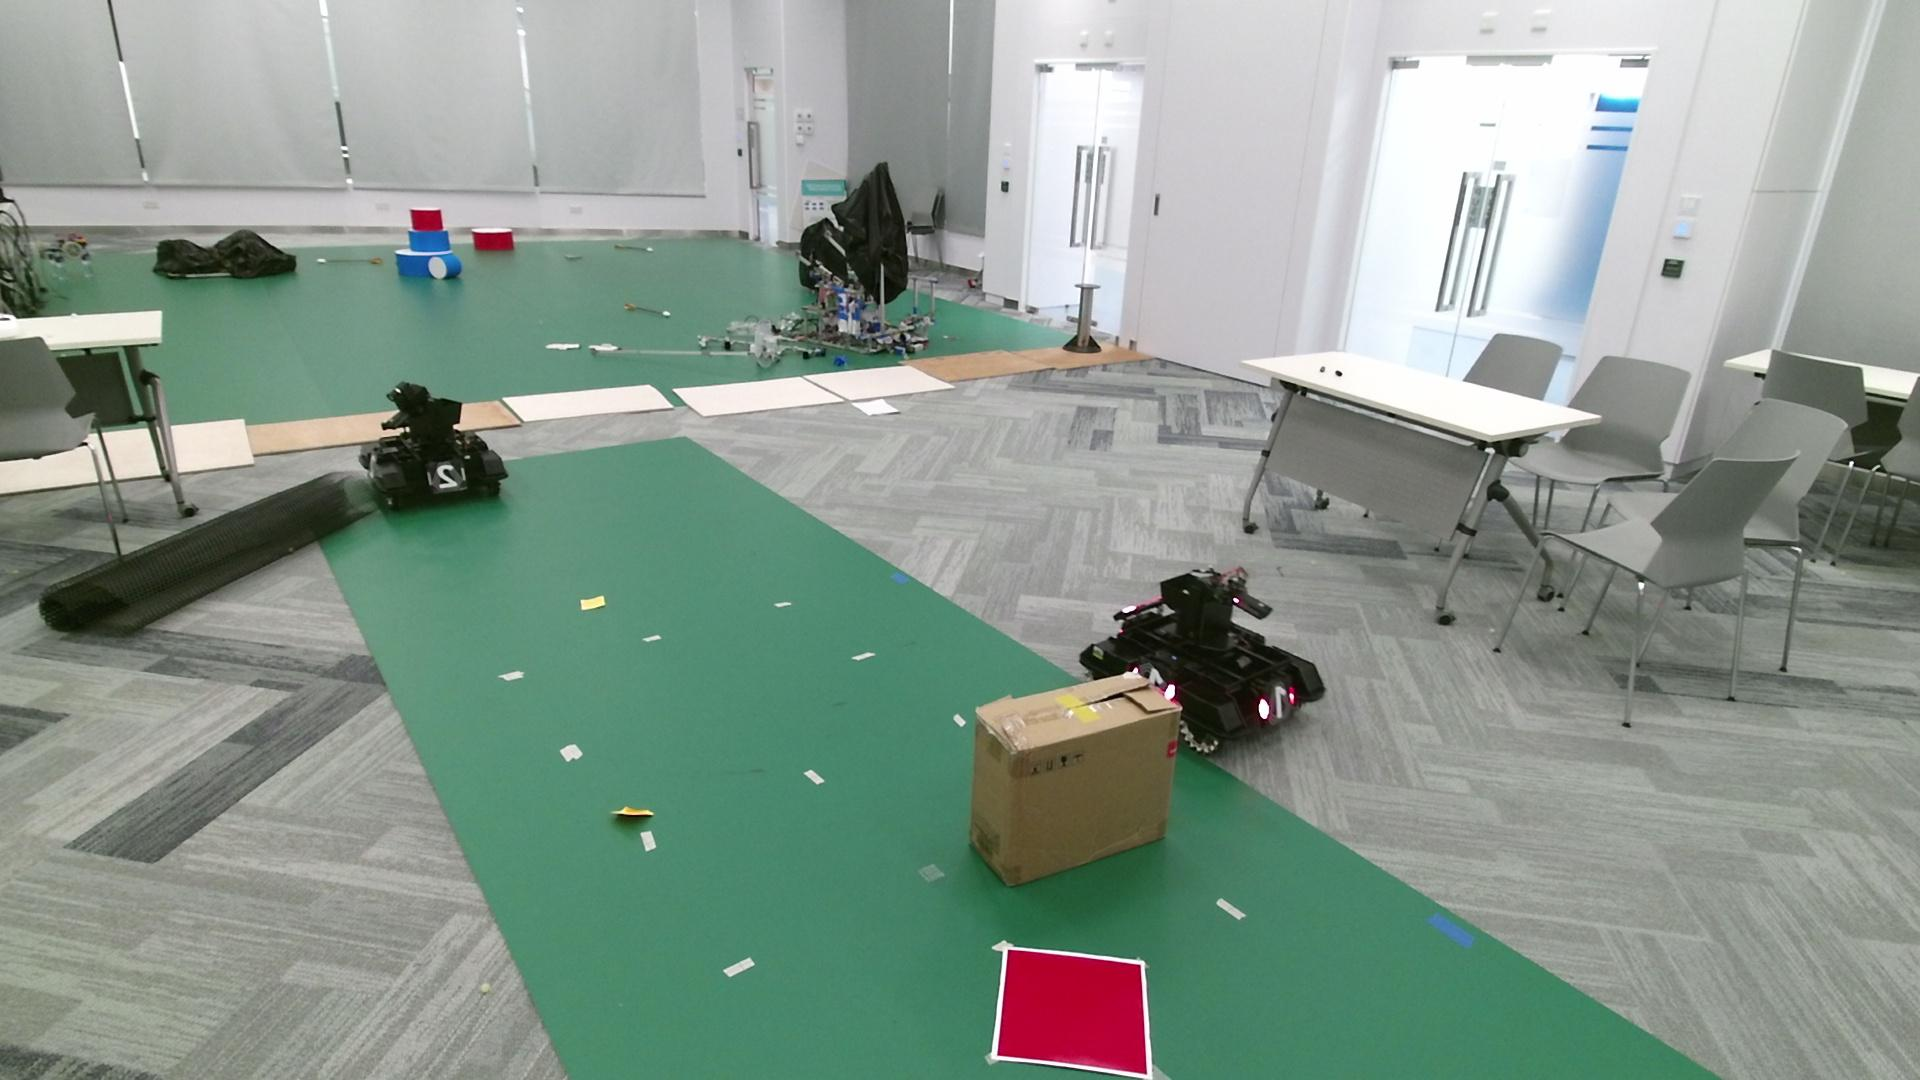robot: (1079, 564, 1327, 756), (357, 381, 508, 508)
